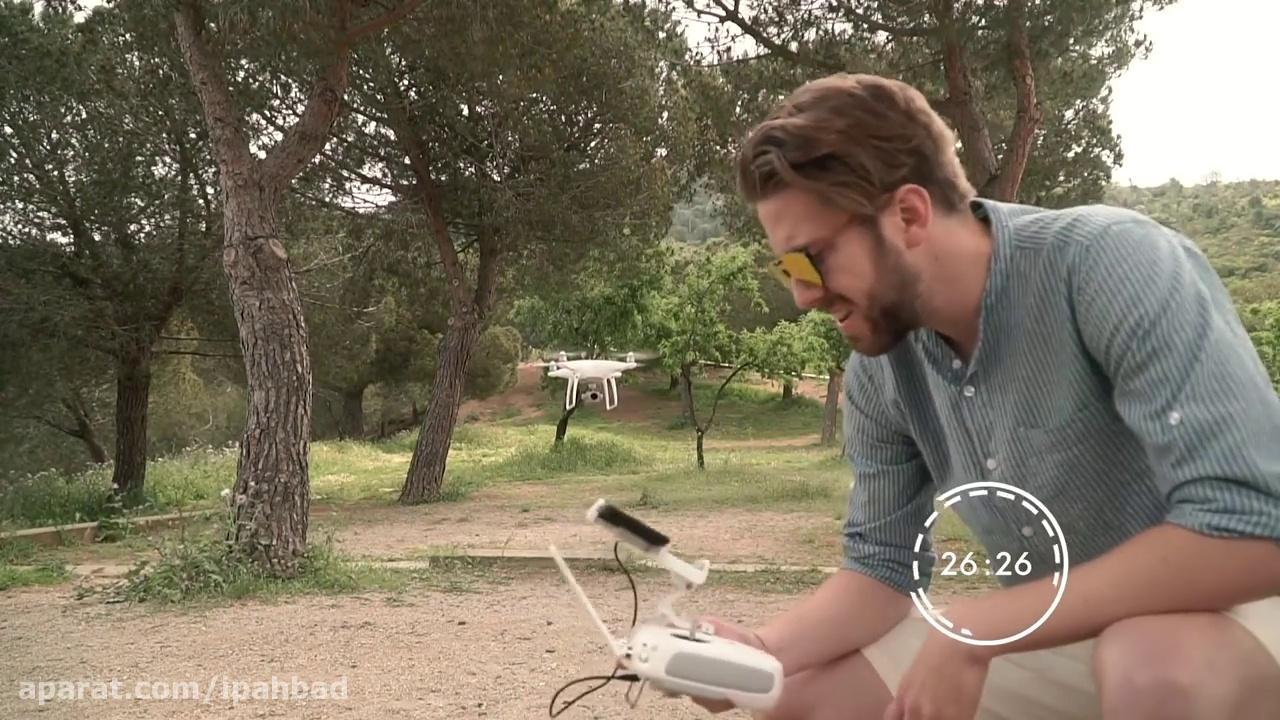drone: (531, 339, 664, 409)
